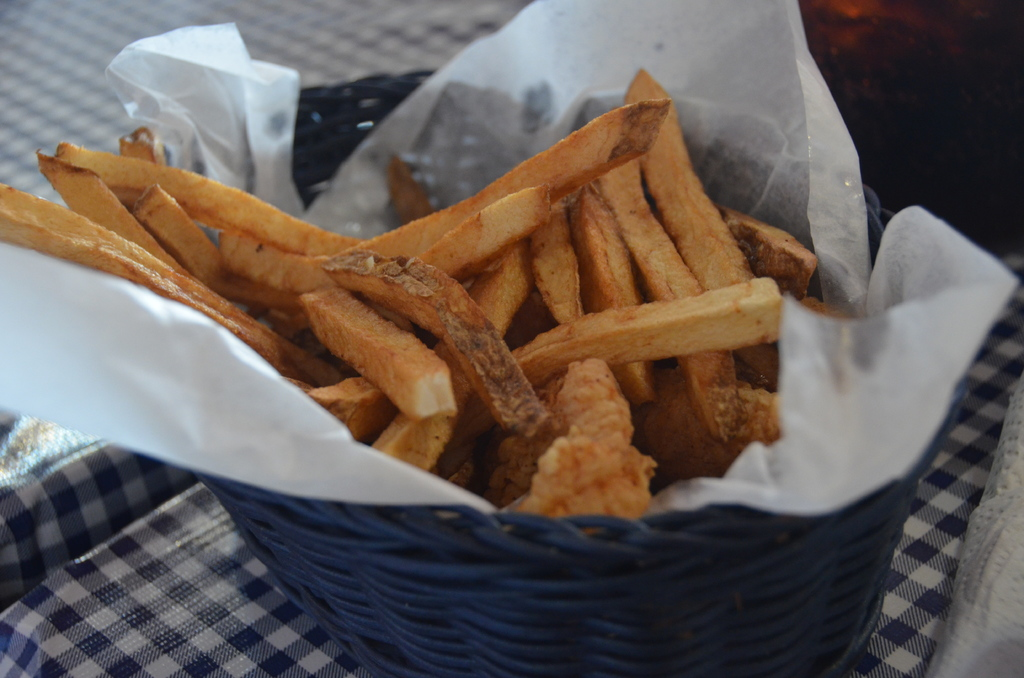French fries: (0, 67, 850, 535)
